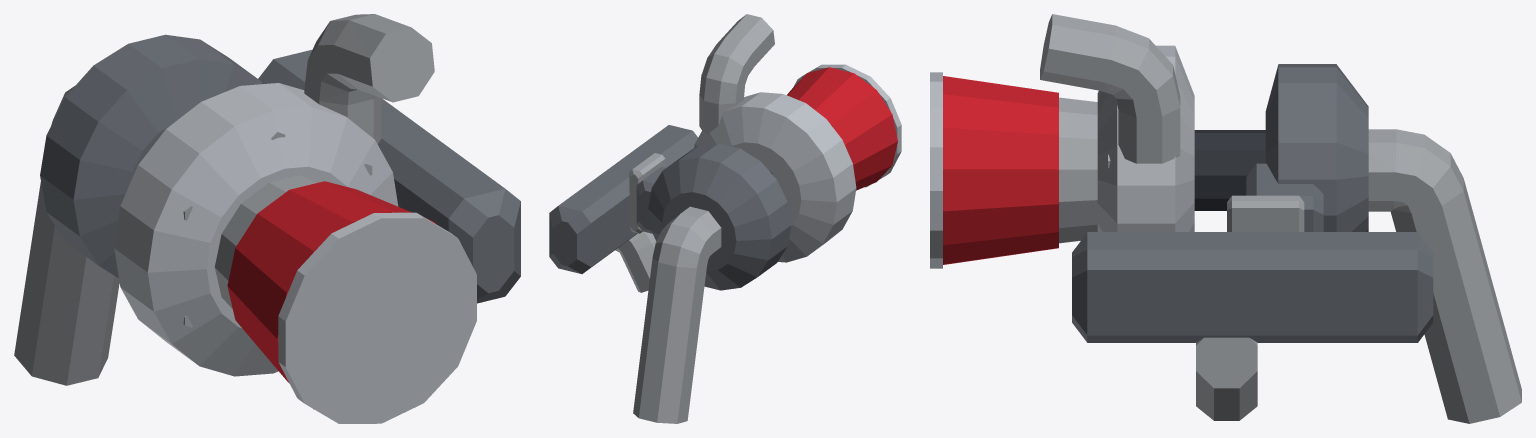
The model's file is starter_car.glb.
3 renders of one model, left to right at view 1: azimuth 30°, elevation 25°; view 2: azimuth 150°, elevation 25°; view 3: azimuth 270°, elevation 25°, orthographic. The views are drawn at different scales.
Parts seen in each view (by area): view 1: model; view 2: model; view 3: model.
Boxes of the visible parts, x1,y1,x2,y2 form: model: [14, 14, 520, 423]; model: [549, 14, 901, 423]; model: [930, 14, 1521, 423].
Size of the model in its own units: 0.2806 by 0.3681 by 0.4587.
Materials: 2 (1 with a texture image).
